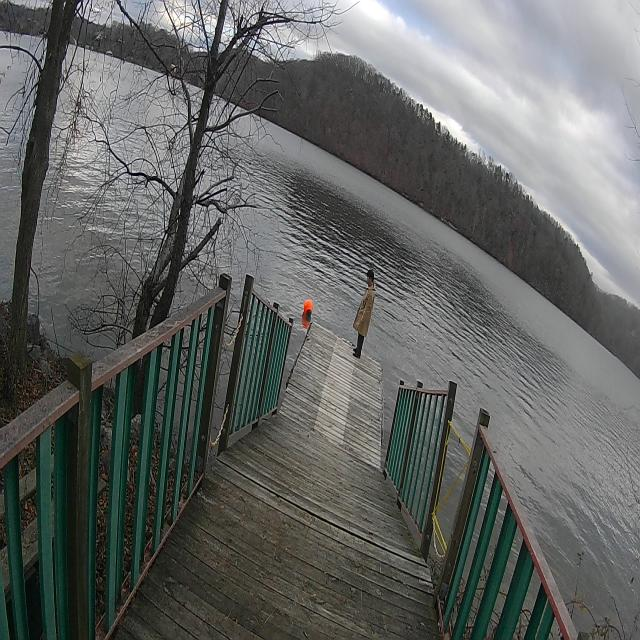Buoy: (302, 296, 314, 325)
